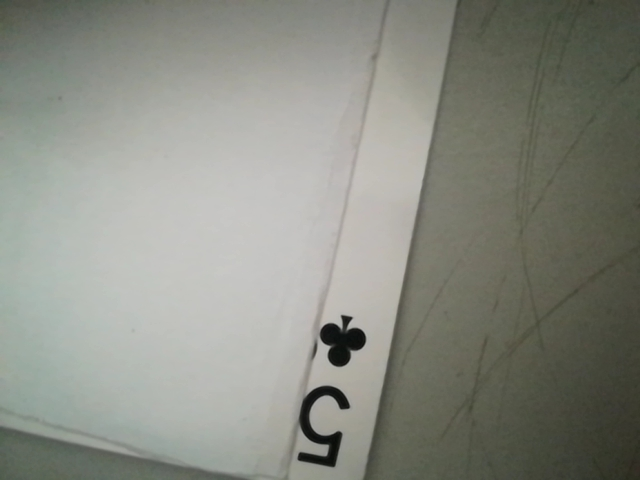mh 5: (284, 305, 378, 477)
